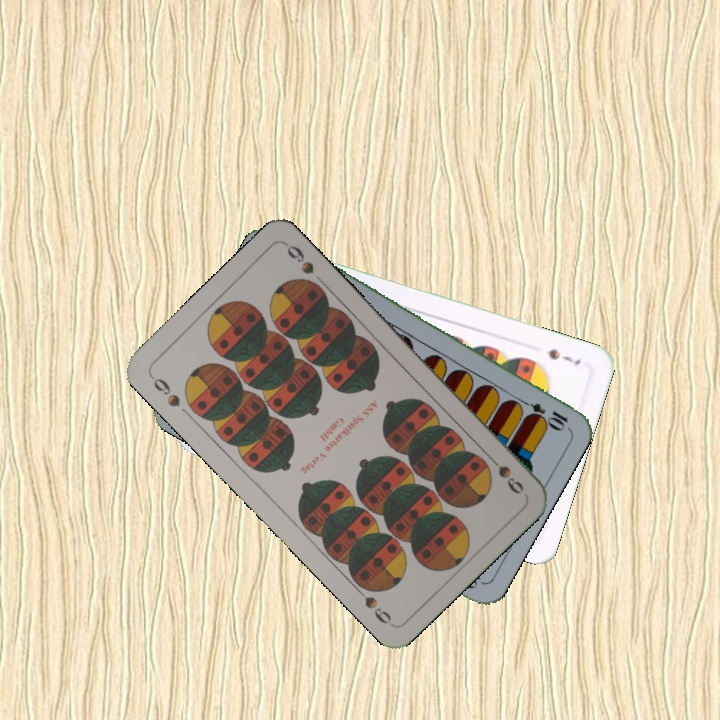E10: (514, 394, 571, 431)
S7: (544, 344, 583, 368)
S9: (478, 449, 527, 497), (146, 371, 183, 410)
